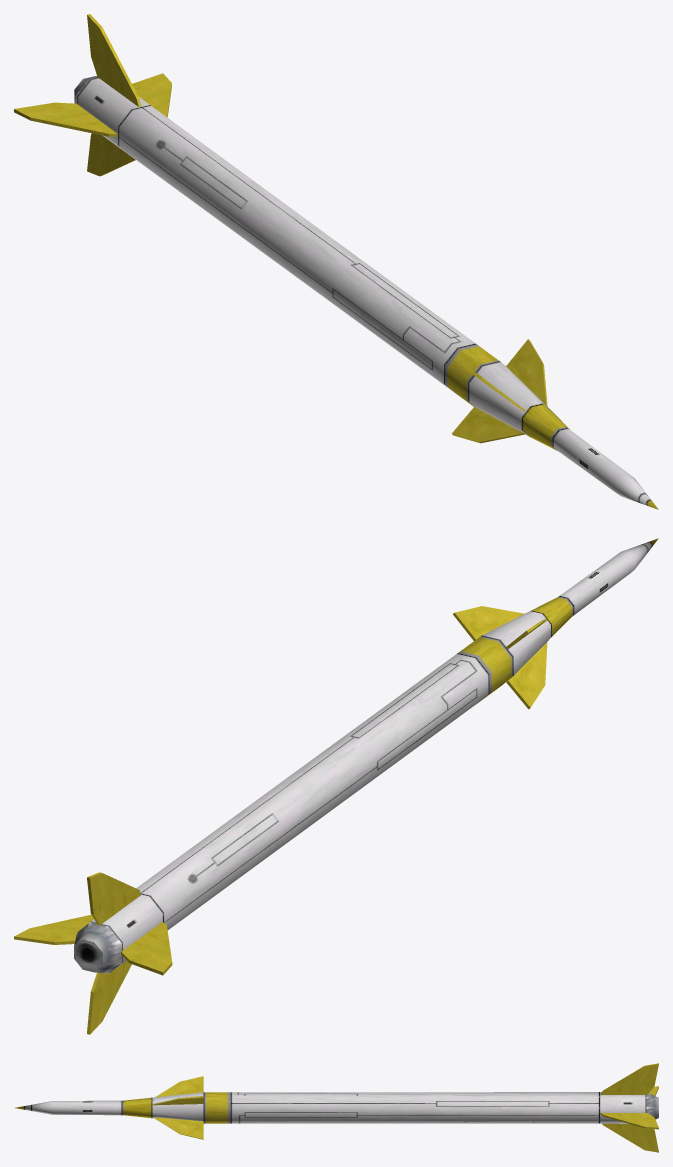
The model's file is wpn_missile_space_s04_l1.fbx.
3 views of the same model, one above another, from view 1: azimuth 30°, elevation 25°; view 2: azimuth 150°, elevation 25°; view 3: azimuth 270°, elevation 25° (orthographic). The views are drawn at different scales.
Visible parts, largest first — view 1: mesh_node; view 2: mesh_node; view 3: mesh_node.
Part boxes in pixels (bbox=[...]): mesh_node: bbox=[14, 14, 658, 509]; mesh_node: bbox=[14, 538, 658, 1034]; mesh_node: bbox=[15, 1063, 658, 1152].
Bounding box in the file's own units: 0.3011 × 0.3023 × 2.
Materials: 1 (1 with a texture image).
